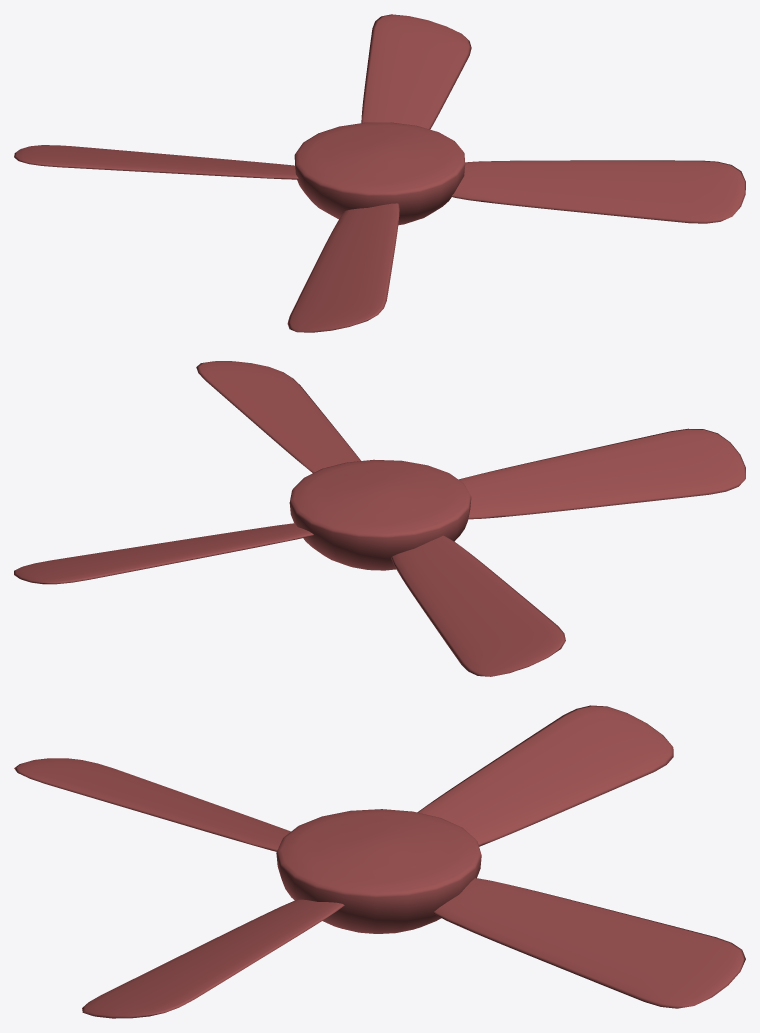
Rendered from Fan_Moving.fbx.
3 renders of one model, top to bottom at view 1: azimuth 30°, elevation 25°; view 2: azimuth 150°, elevation 25°; view 3: azimuth 270°, elevation 25°, orthographic. The views are drawn at different scales.
Visible parts, largest first — view 1: pCube3; view 2: pCube3; view 3: pCube3.
Part boxes in pixels (x1,y1,x2,y2): pCube3: (14, 14, 745, 332); pCube3: (14, 361, 745, 676); pCube3: (14, 705, 745, 1018).
Bounding box in the file's own units: 9.98 × 1.18 × 9.97.
